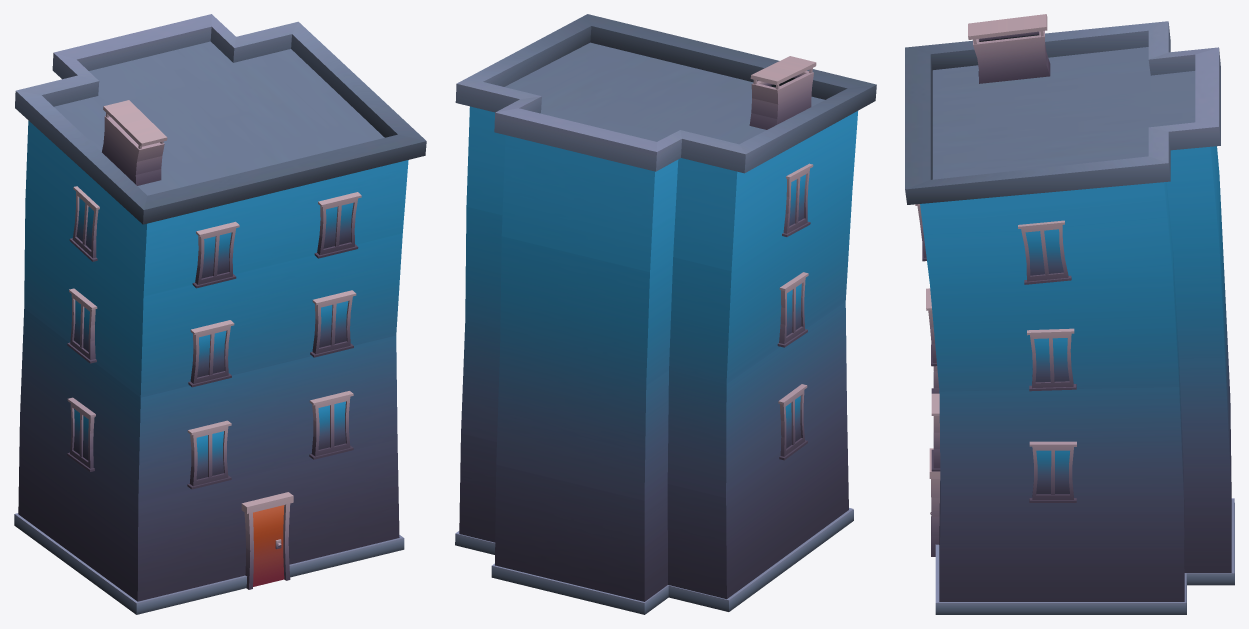
The model's file is Building_1.fbx.
3 renders of one model, left to right at view 1: azimuth 30°, elevation 25°; view 2: azimuth 150°, elevation 25°; view 3: azimuth 270°, elevation 25°, orthographic. The views are drawn at different scales.
Visible parts, largest first — view 1: Abandoned Building; view 2: Abandoned Building; view 3: Abandoned Building.
Boxes of the visible parts, x1=… form: Abandoned Building: x1=14, y1=14, x2=426, y2=614; Abandoned Building: x1=455, y1=14, x2=876, y2=614; Abandoned Building: x1=905, y1=14, x2=1234, y2=614.
Bounding box in the file's own units: 690 × 1081 × 677.
